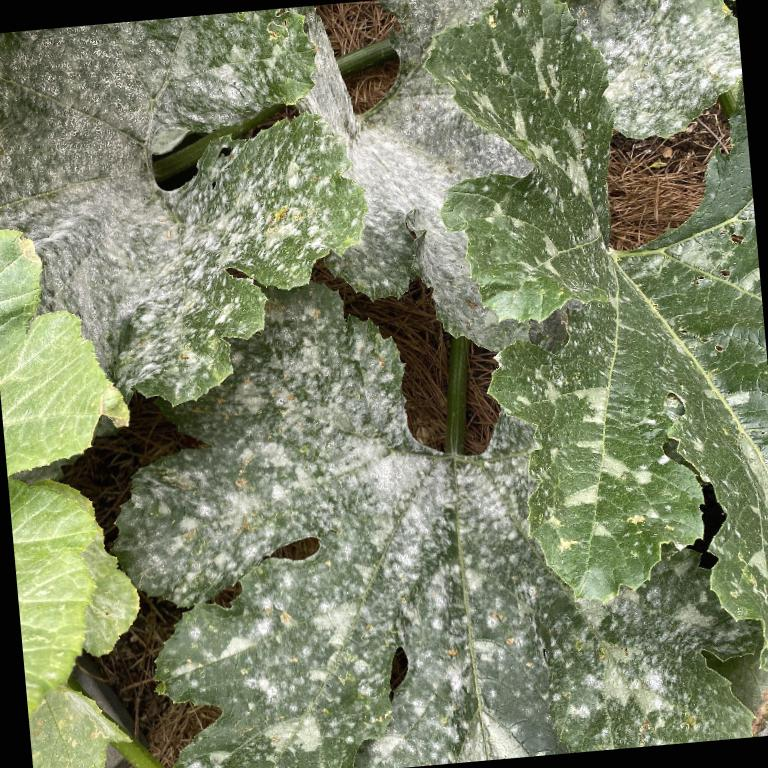powdery-mildew: (235, 372, 425, 540), (212, 592, 376, 758), (16, 31, 150, 182), (600, 0, 739, 125), (334, 123, 444, 229)
